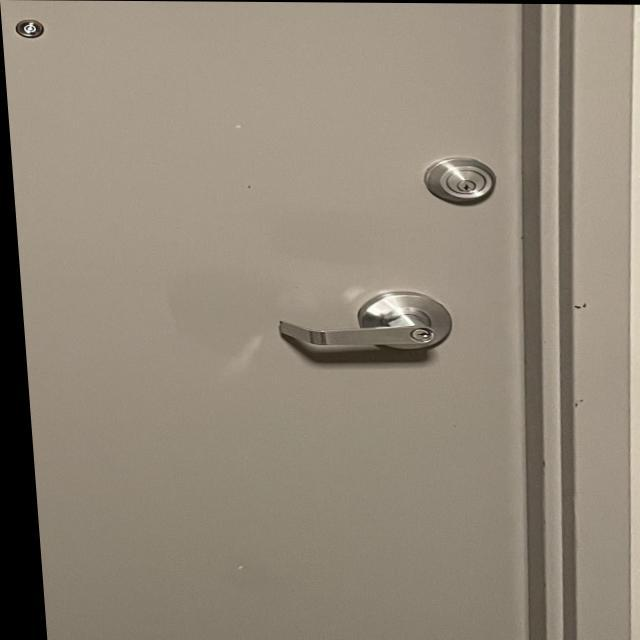door_handle: (254, 301, 462, 371)
